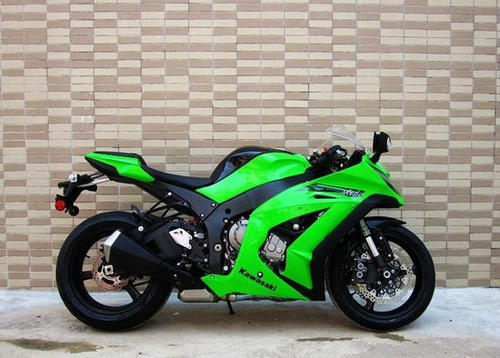motor: (43, 137, 442, 335)
